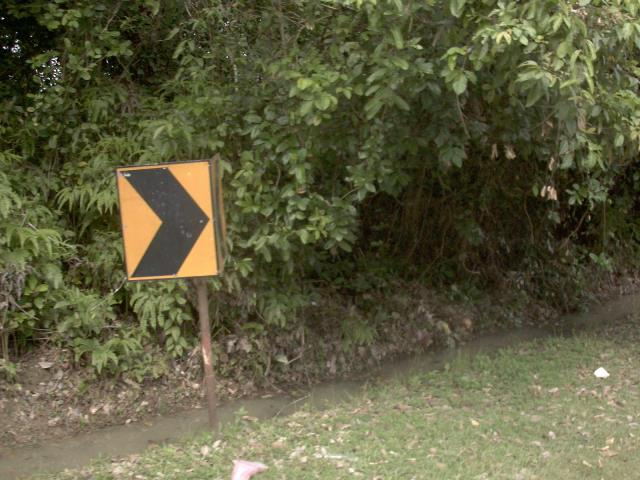traffic_sign: (102, 144, 230, 296)
